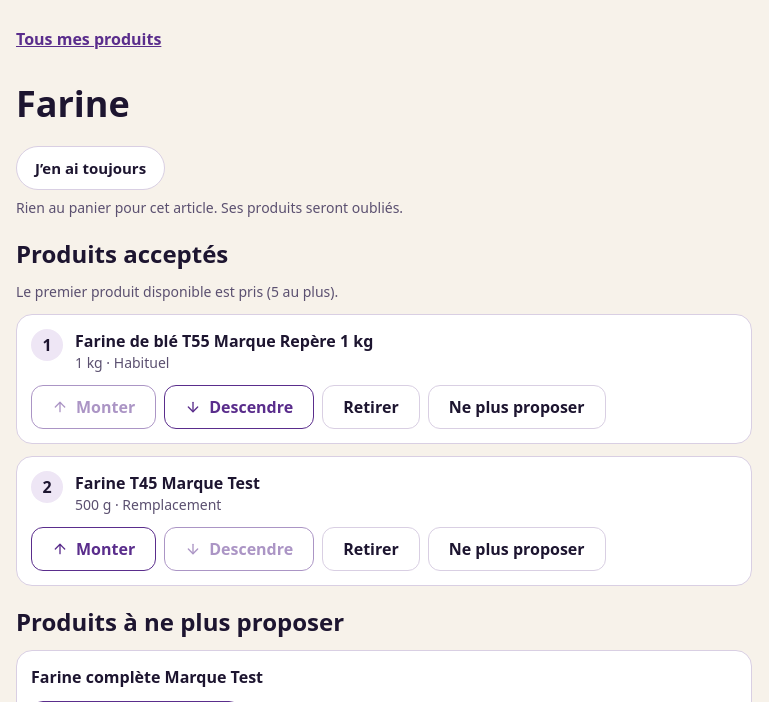
Scenario: Mes produits : un ingrédient › affiche le refus du back (422) à côté de l’action et garde les modifications
The image size is (769, 702).
Click the button "Descendre" below "Farine de blé T55 Marque Repère 1 kg". click: click(239, 407)
box: left=164, top=385, right=314, bottom=429
(page scrolled)
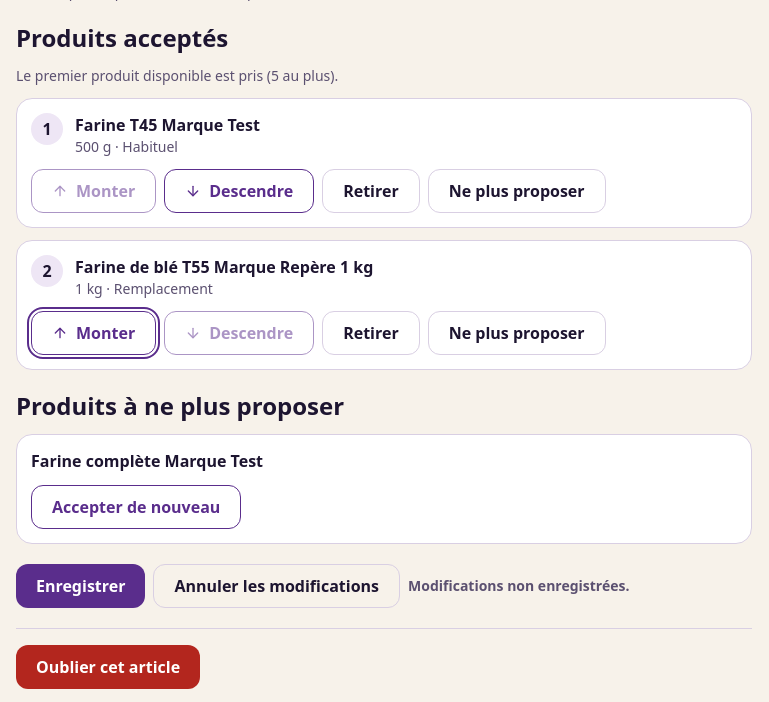
Click the button "Enregistrer". click: click(81, 586)
box: left=16, top=564, right=146, bottom=608
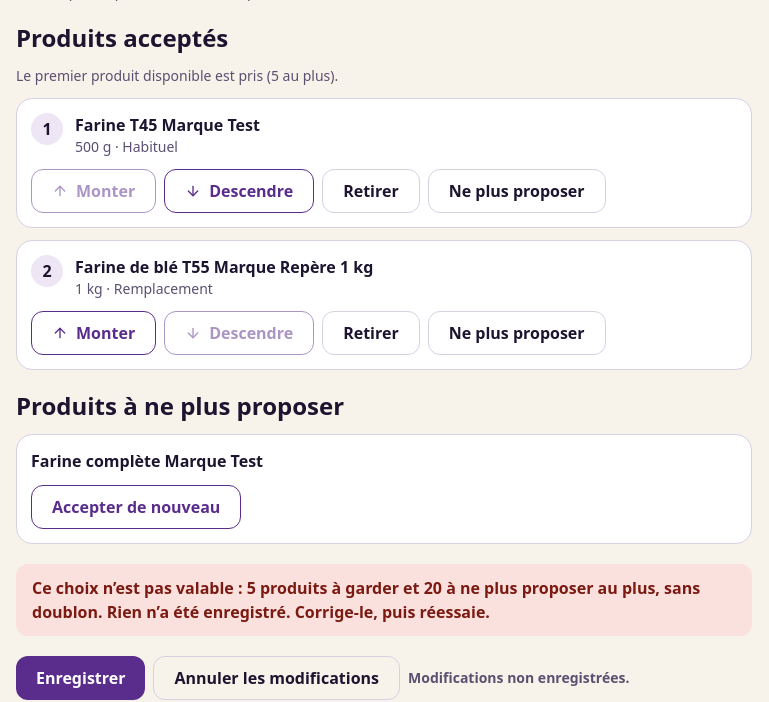
Expected: the message shows "Ce choix n’est pas valable", left=32, top=577, right=700, bottom=623
